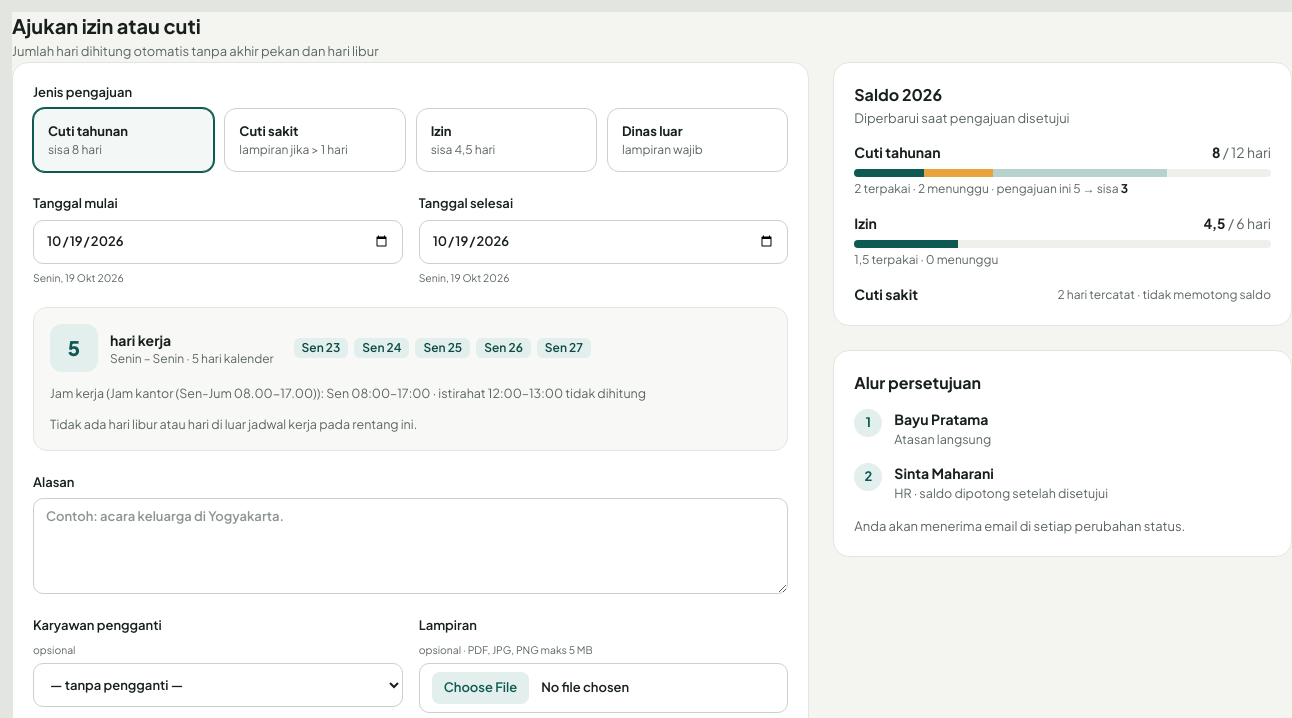
Test: LeaveRequestPage (H-08) › izin sebagian hari: input jam muncul, diisi paruh pagi dari jam kerja API, tanggal selesai dikunci
Click the radio button with test id "type-IZ" at (506, 140), box [416, 108, 597, 172]
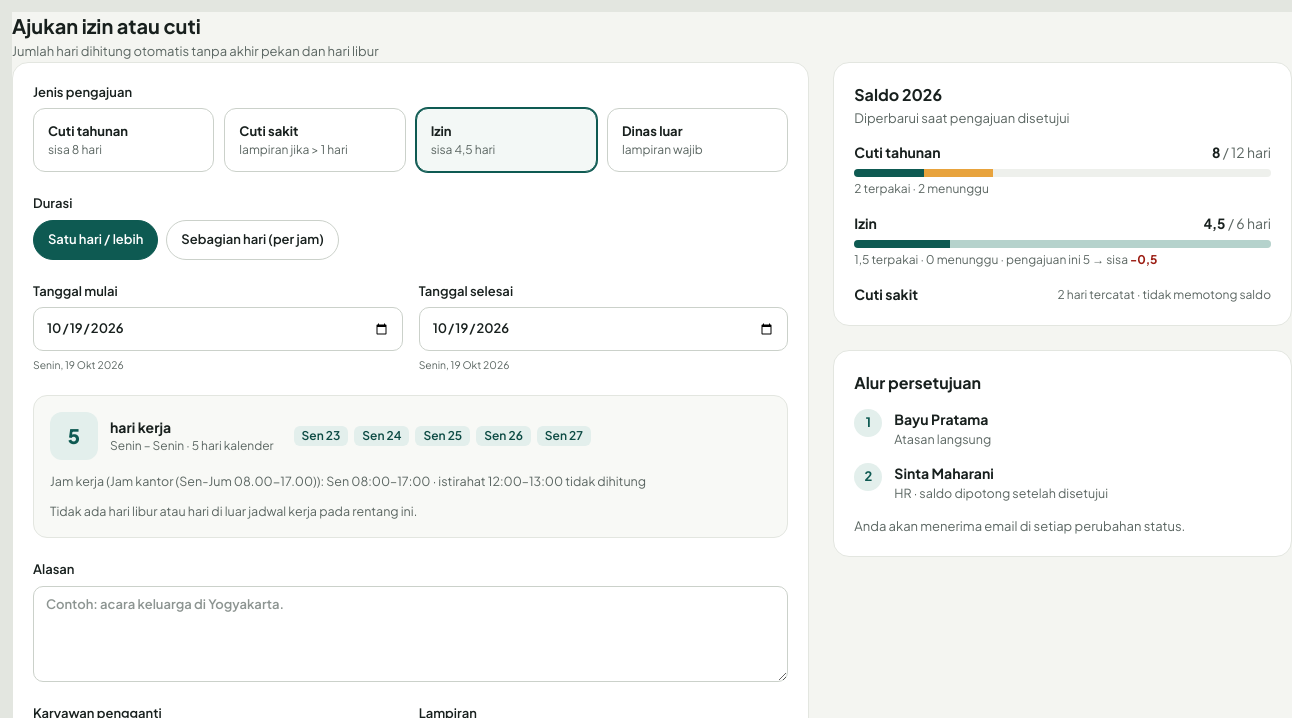
Click the radio button with test id "mode-partial" at (253, 240), box [166, 220, 339, 260]
Wait 600 ms
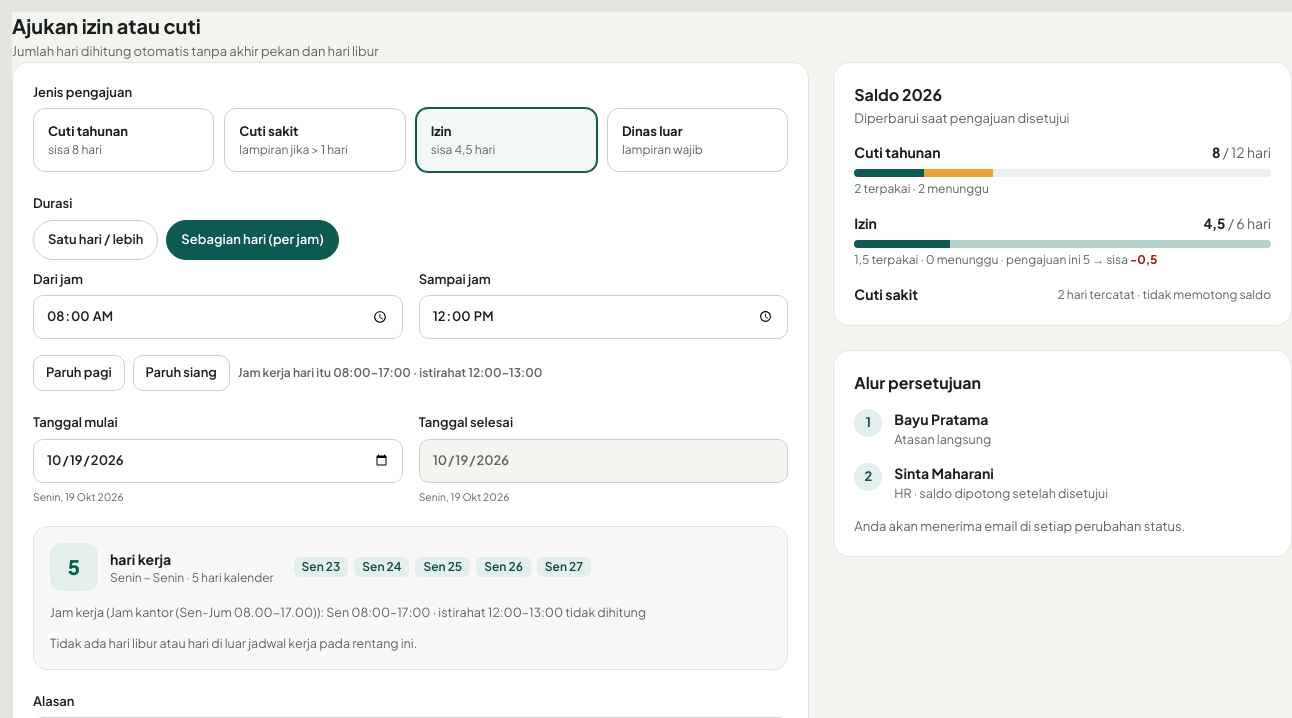
Expected: the time field with test id "from" holds "08:00", [33, 295, 403, 339]
Expected: the time field with test id "to" holds "12:00", [419, 295, 788, 339]
Expected: the date field with test id "end" is disabled, [419, 438, 788, 482]
Click the button with test id "quick-siang" at (181, 373), box [133, 355, 230, 391]
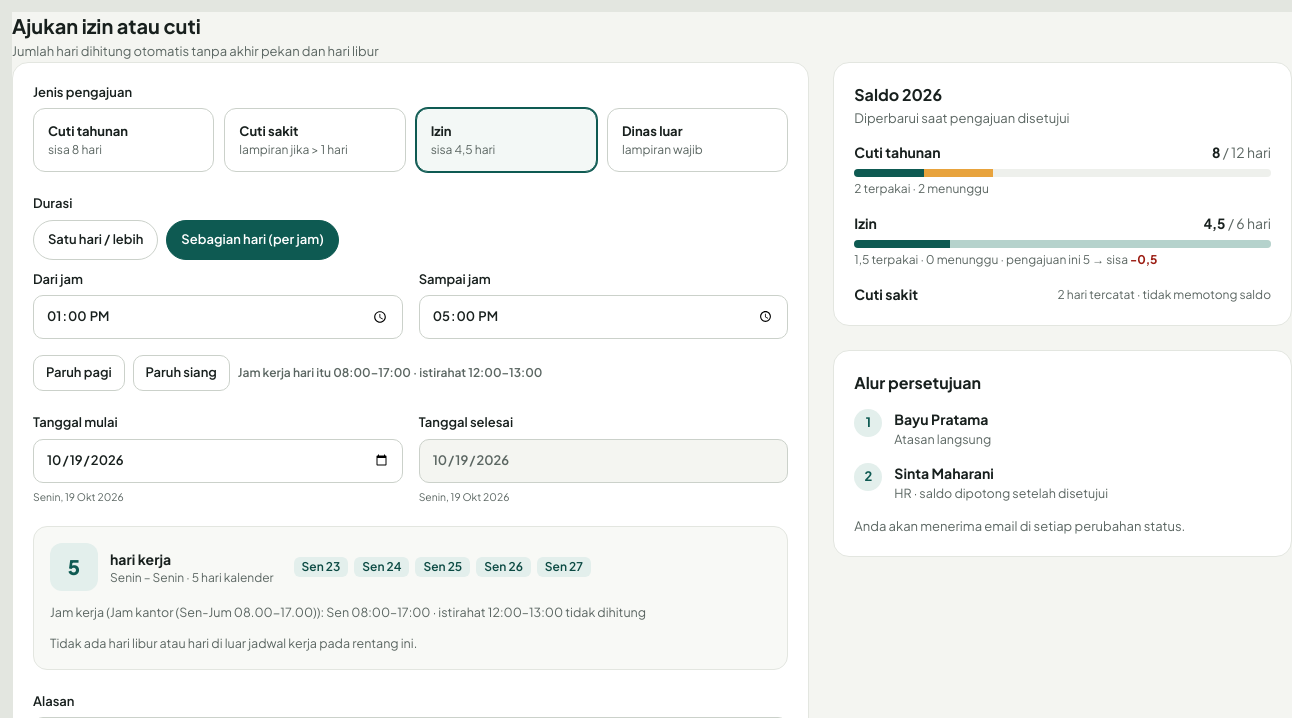
Expected: the time field with test id "from" holds "13:00", [33, 295, 403, 339]
Expected: the time field with test id "to" holds "17:00", [419, 295, 788, 339]
